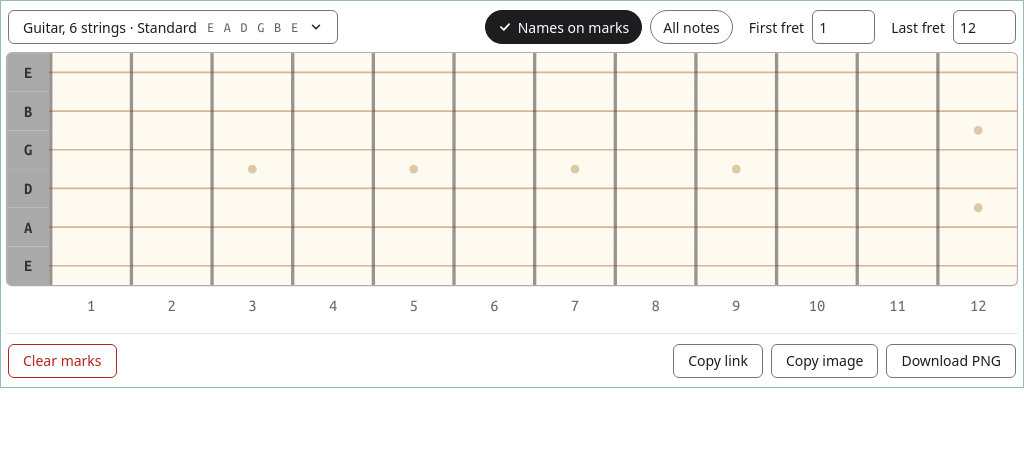
Test: Fretboard › instruments and tunings › opens the pickers from a summary of the tuning and closes them again
Click the button "Guitar, 6 strings · Standard E A D G B E". click: (173, 27)
box: left=8, top=10, right=338, bottom=44
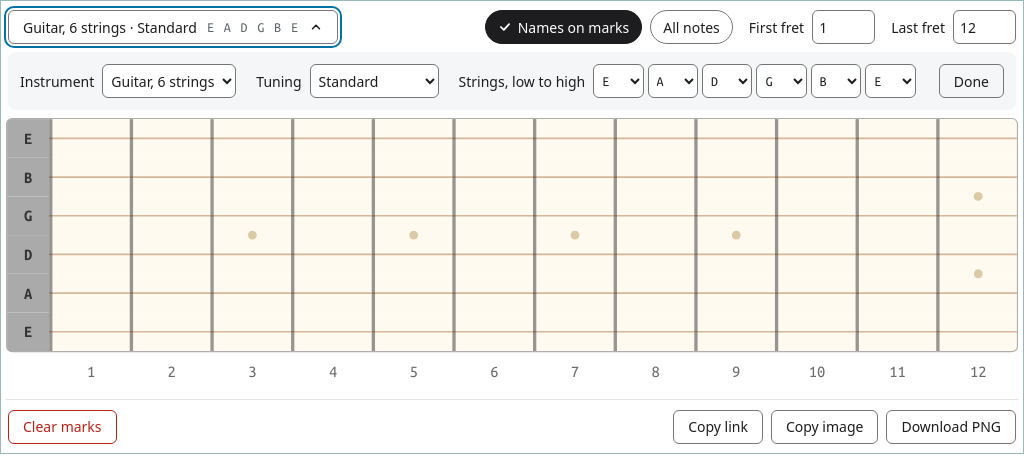
Expected: the button "Guitar, 6 strings · Standard E A D G B E" is expanded, left=8, top=10, right=338, bottom=44
Expected: the element named "Instrument and tuning" is shown, left=8, top=52, right=1016, bottom=110
Select "Drop D" in the dropdown labelled "Tuning". click: (374, 81)
box: left=310, top=64, right=439, bottom=98
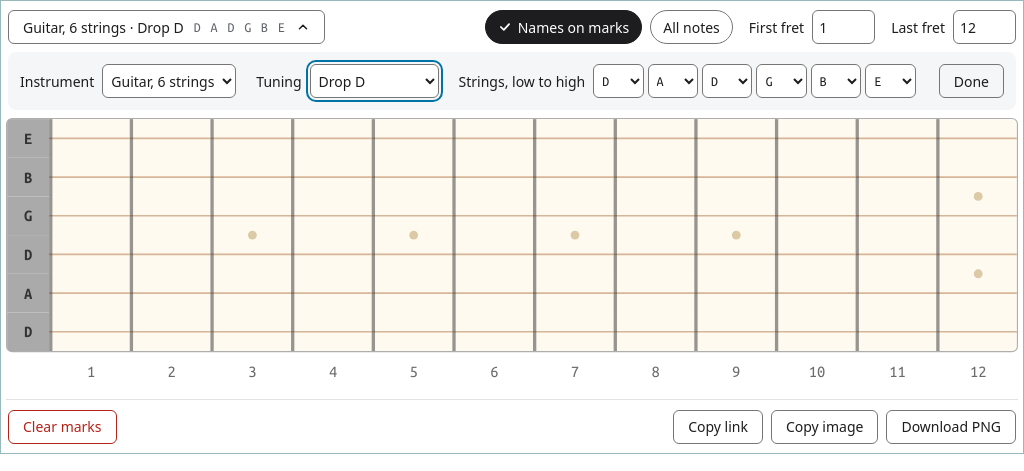
Expected: the button "Guitar, 6 strings · Drop D D A D G B E" is shown, left=8, top=10, right=325, bottom=44
Click the button "Done". click: (971, 81)
box: left=939, top=64, right=1004, bottom=98
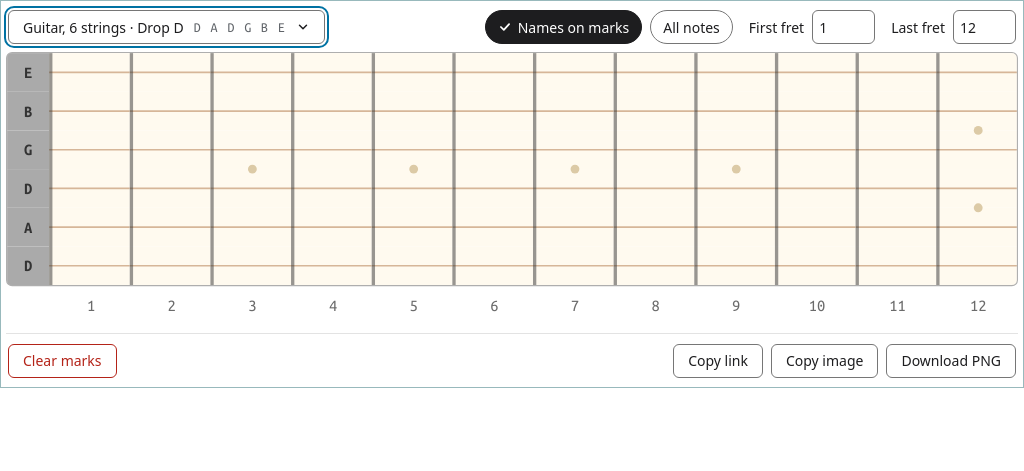
Expected: the button "Guitar, 6 strings · Drop D D A D G B E" is collapsed, left=8, top=10, right=325, bottom=44
